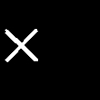single_crochet: (5, 29, 37, 61)
